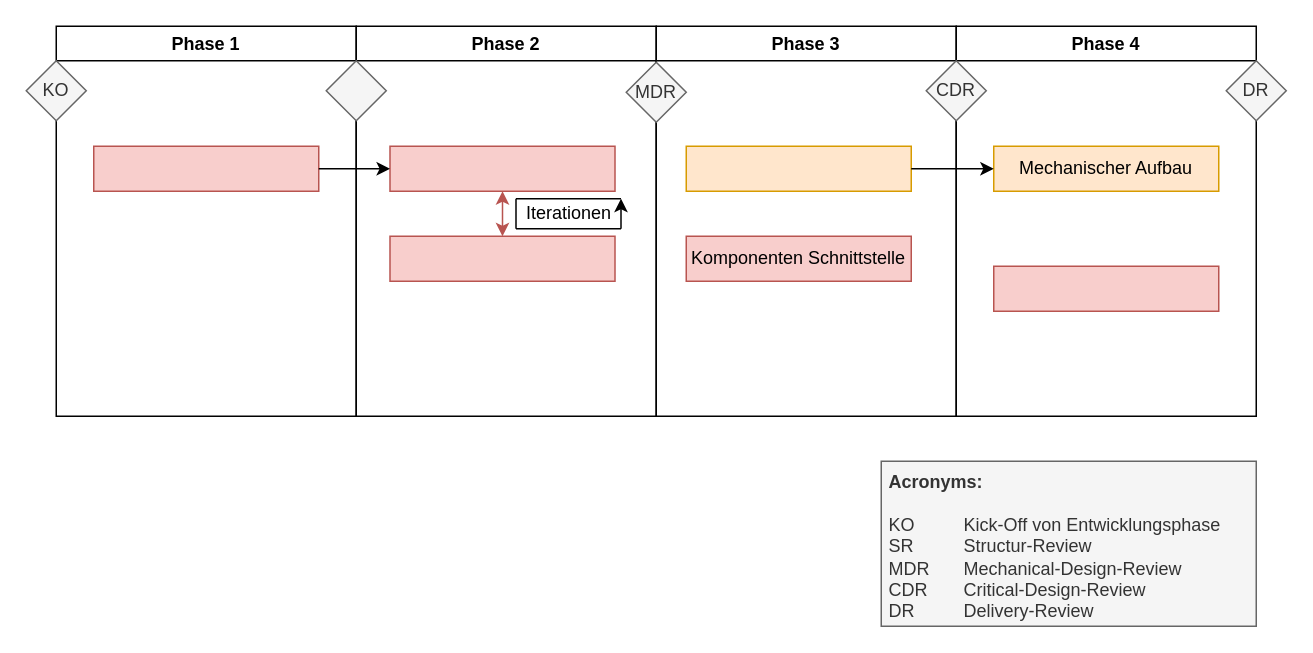
The diagram is 1313 pixels wide and 653 high, and some of its shapes have lost their labels. Here are the shapes that lost their labels. From the top down, the centre of each, then its label:
[355,90]: SR
[205,168]: Struktur
[501,168]: Skills
[798,168]: Komponenten
[501,258]: Objektklasse
[1105,288]: HMI
